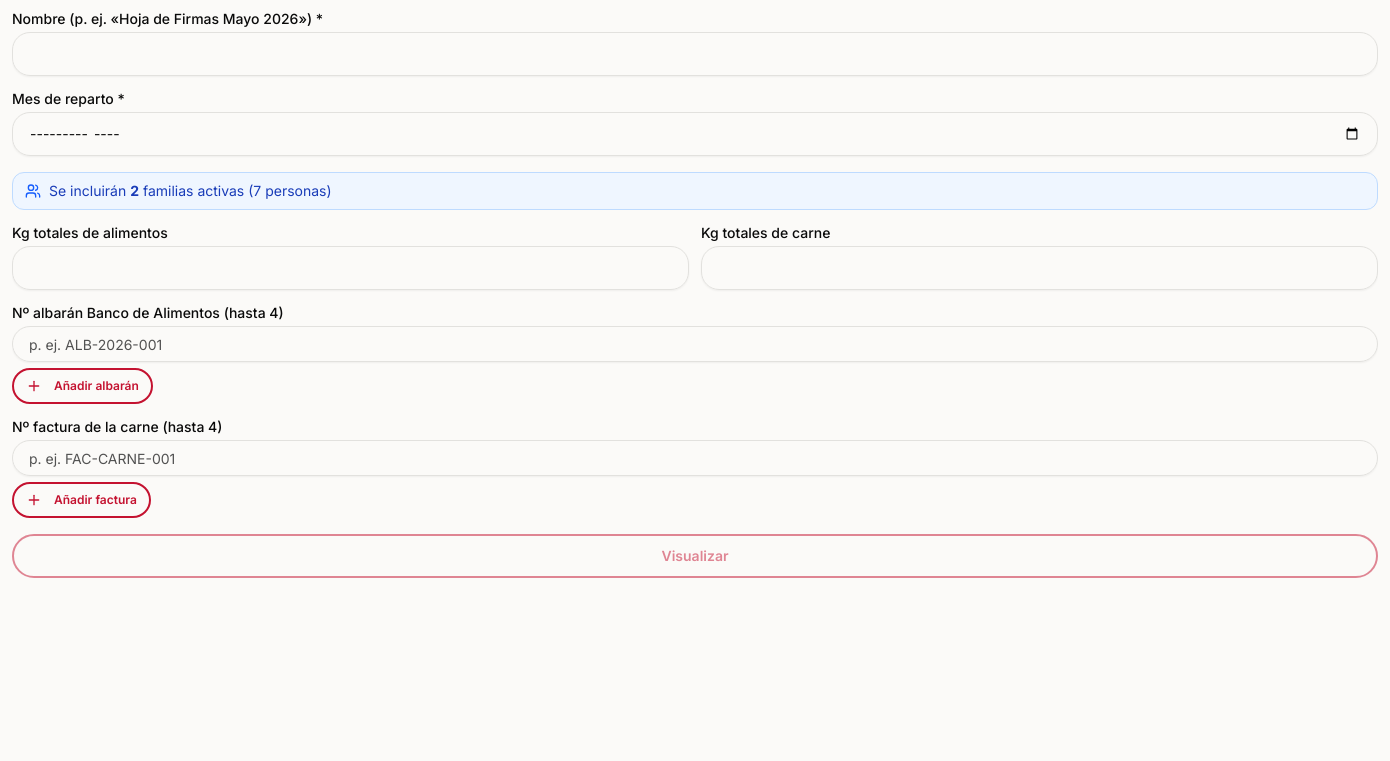
Test: CrearRepartoForm — slot-based model › reveals the day grid as soon as a month is selected, without needing a total
# Pick a month → grid appears immediately (no total required)
In the field labelled "Mes de reparto *": (695, 134) [12,112,1378,156], type "2026-06"
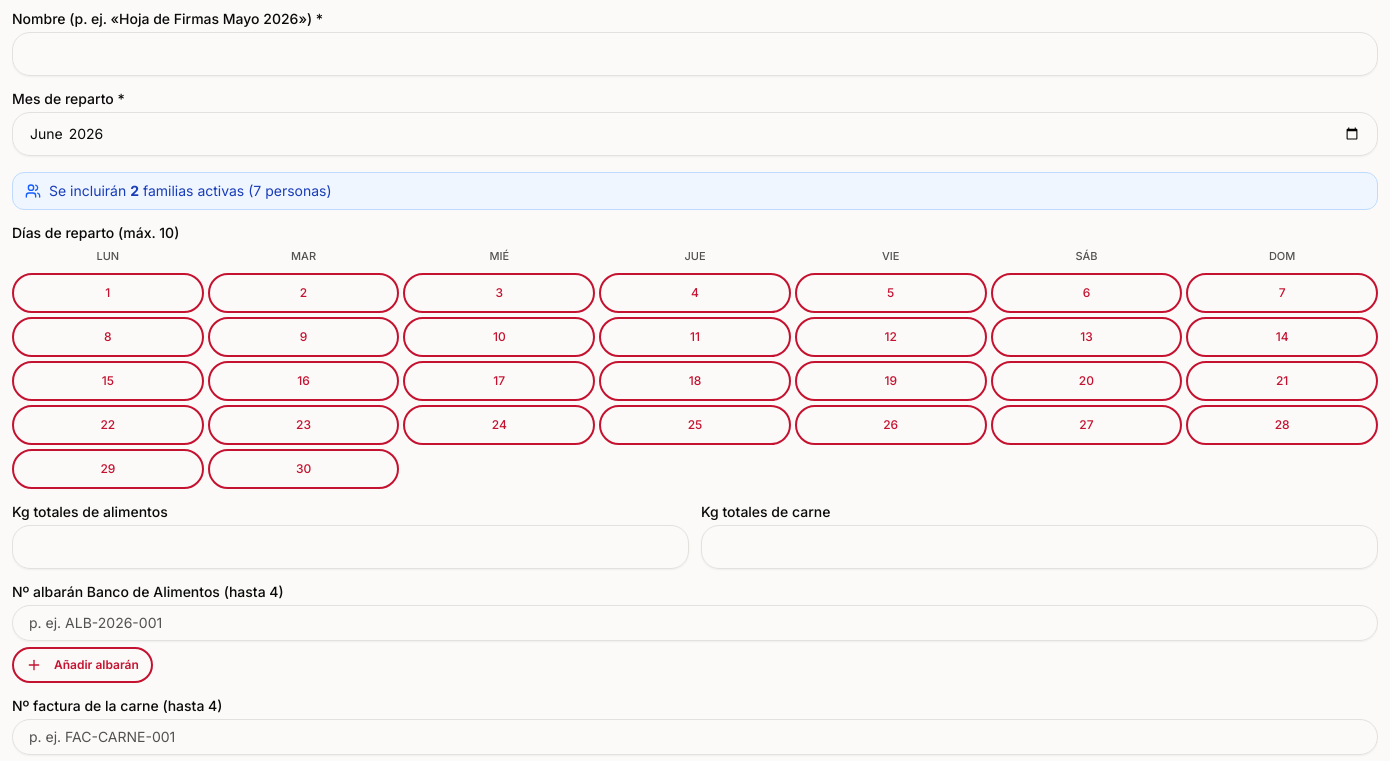
Now the element named "Días del mes" is shown, box [12,248,1378,488]
